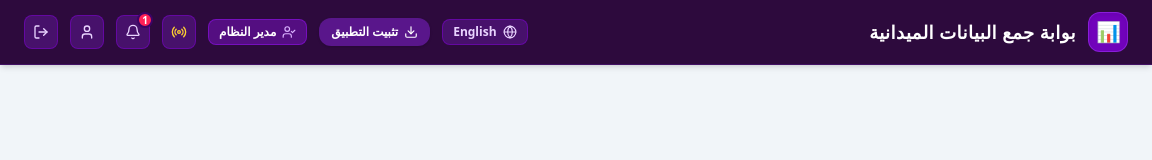
Test case: TopNavbar Component › renders navbar header and switches language
The image size is (1152, 160).
Check: the text "بوابة جمع البيانات الميدانية" is shown, box [869, 21, 1076, 43]
// Toggle language
Step 1. Click the button "English" → click(485, 32), box [442, 19, 528, 45]
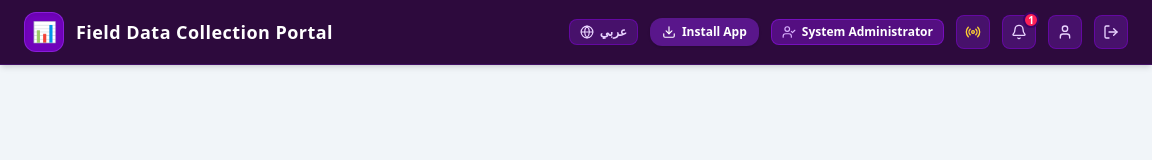
Check: the text "Field Data Collection Portal" is shown, box [76, 21, 333, 43]
